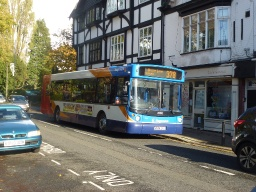bus: (42, 63, 185, 140)
car: (1, 102, 43, 156), (8, 95, 30, 113)
